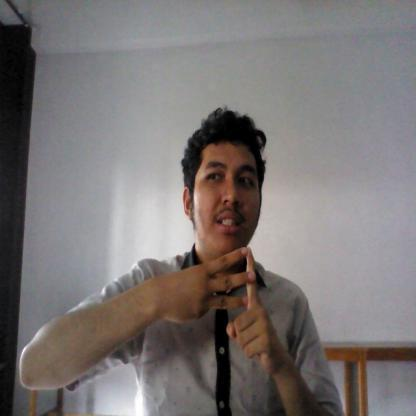B: (174, 244, 282, 364)
